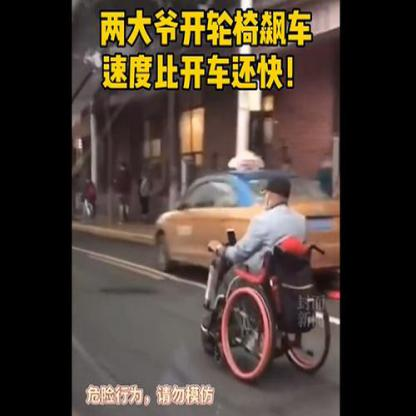wheelchair: (195, 176, 332, 381)
